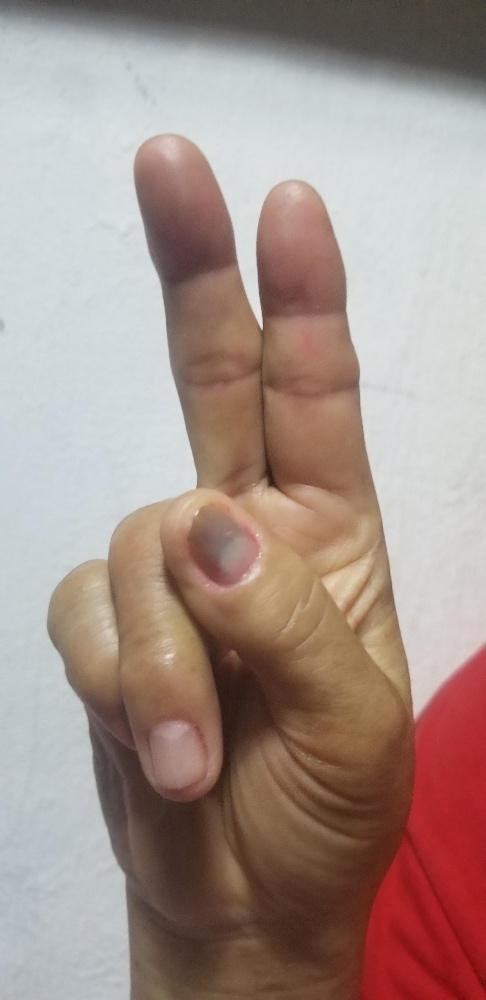u: (45, 130, 416, 930)
